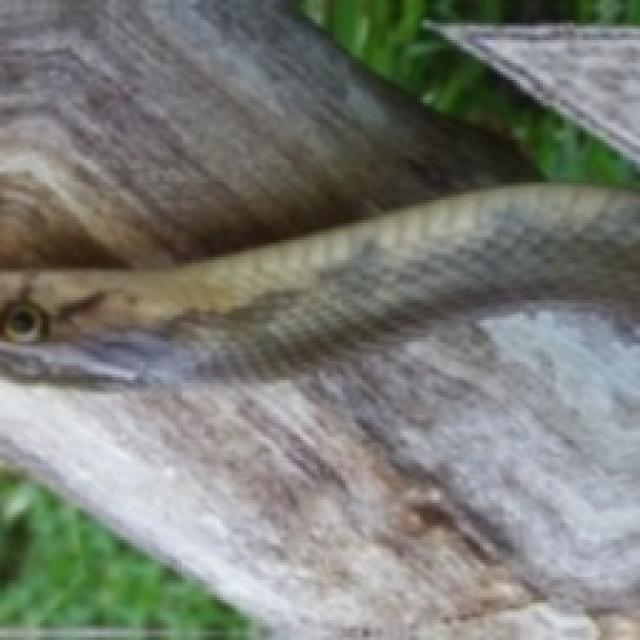reddish rat snake: (0, 186, 637, 383)
